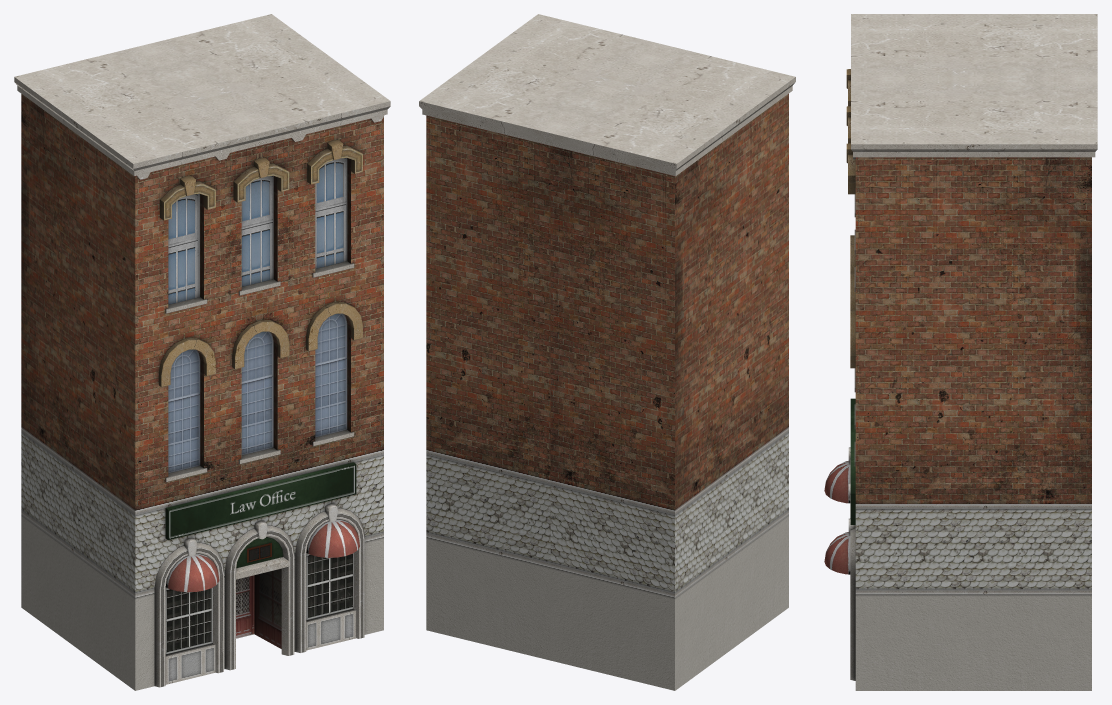
File: law_office.dae
The picture shows the model from 3 angles, left to right: view 1: azimuth 30°, elevation 25°; view 2: azimuth 150°, elevation 25°; view 3: azimuth 270°, elevation 25°; orthographic projection. The views are drawn at different scales.
Parts seen in each view (by area): view 1: Downtown_2; view 2: Downtown_2; view 3: Downtown_2.
Part boxes in pixels (bbox=[...]): Downtown_2: bbox=[14, 14, 390, 690]; Downtown_2: bbox=[419, 14, 795, 690]; Downtown_2: bbox=[824, 14, 1097, 690].
Bounding box in the file's own units: 279 × 247 × 548.
